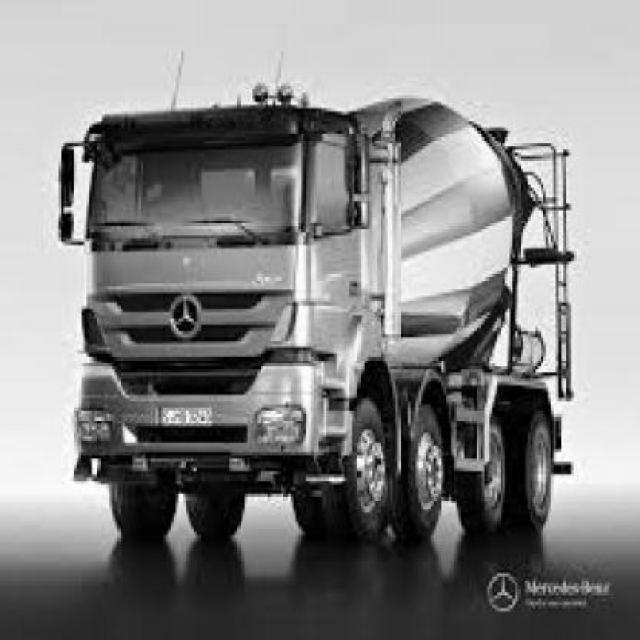Concrete Mixer: (59, 98, 577, 550)
